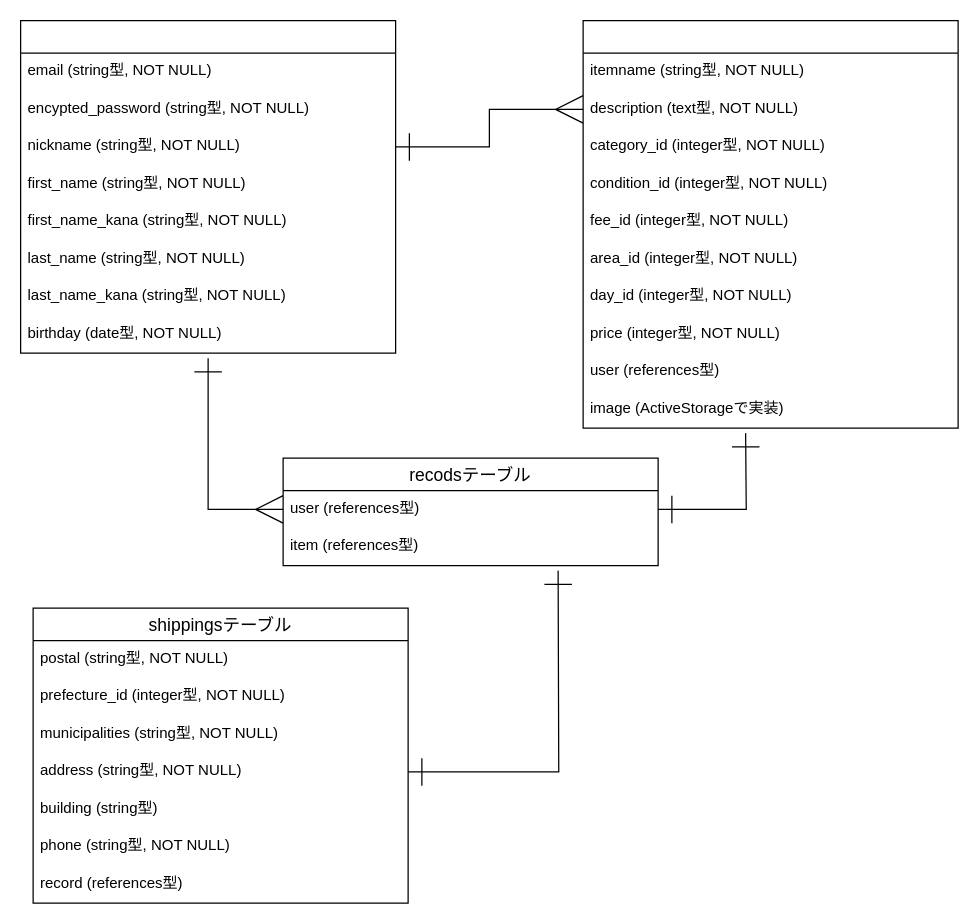
The diagram is 979 pixels wide and 924 high, and some of its shapes have lost their labels. Each missing label, with the box of its shape:
itemsテーブル: (582, 19, 958, 428)
usersテーブル: (19, 19, 396, 353)
